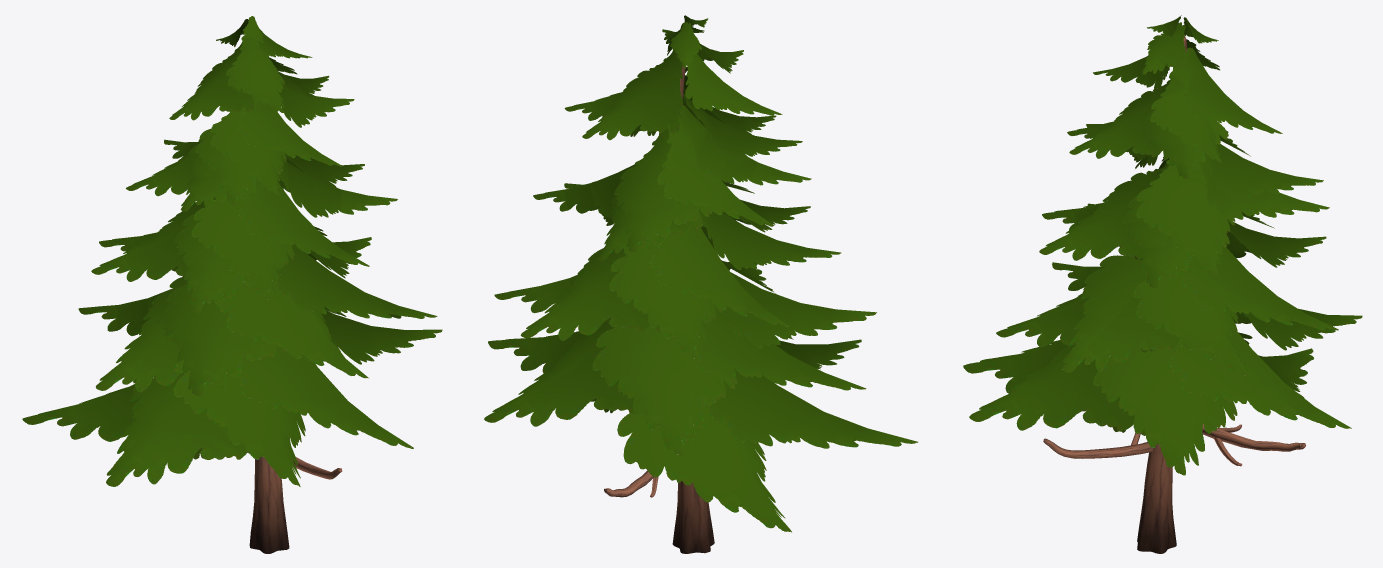
Rendered from Pine_2.glb.
3 views of the same model, side by side, from view 1: azimuth 30°, elevation 25°; view 2: azimuth 150°, elevation 25°; view 3: azimuth 270°, elevation 25° (orthographic). The views are drawn at different scales.
Parts seen in each view (by area): view 1: Pine_2; view 2: Pine_2; view 3: Pine_2.
Part boxes in pixels (x1=…): Pine_2: x1=22, y1=16, x2=442, y2=553; Pine_2: x1=484, y1=15, x2=917, y2=553; Pine_2: x1=963, y1=15, x2=1362, y2=553.
Size of the model in its own units: 5.73 by 7.38 by 5.22.
2 materials, 2 textured.
